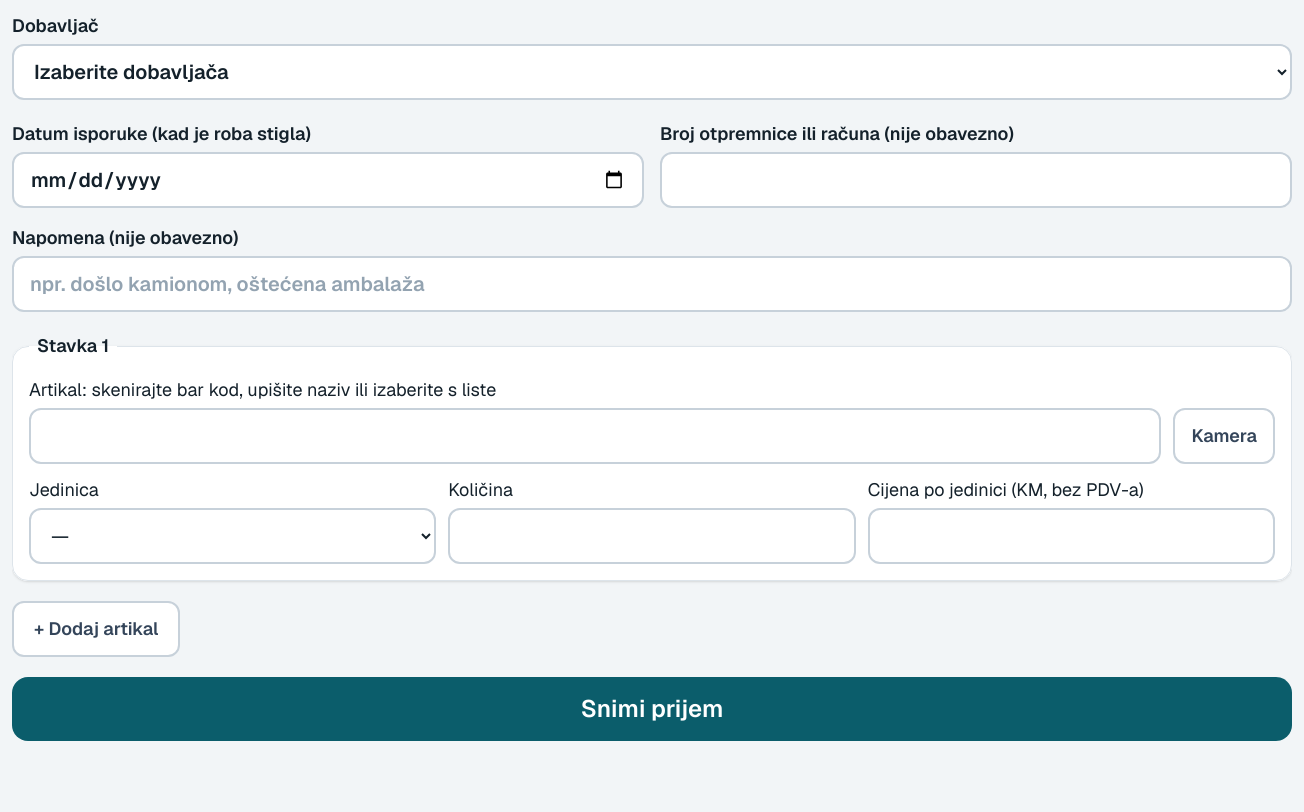
Scenario: prijem: unos artikla skenerom › bar kod pakovanja bira i pakovanje
The image size is (1304, 812).
Click the field labelled "Artikal:" at (595, 436), box x1=29 y1=408 x2=1161 y2=464
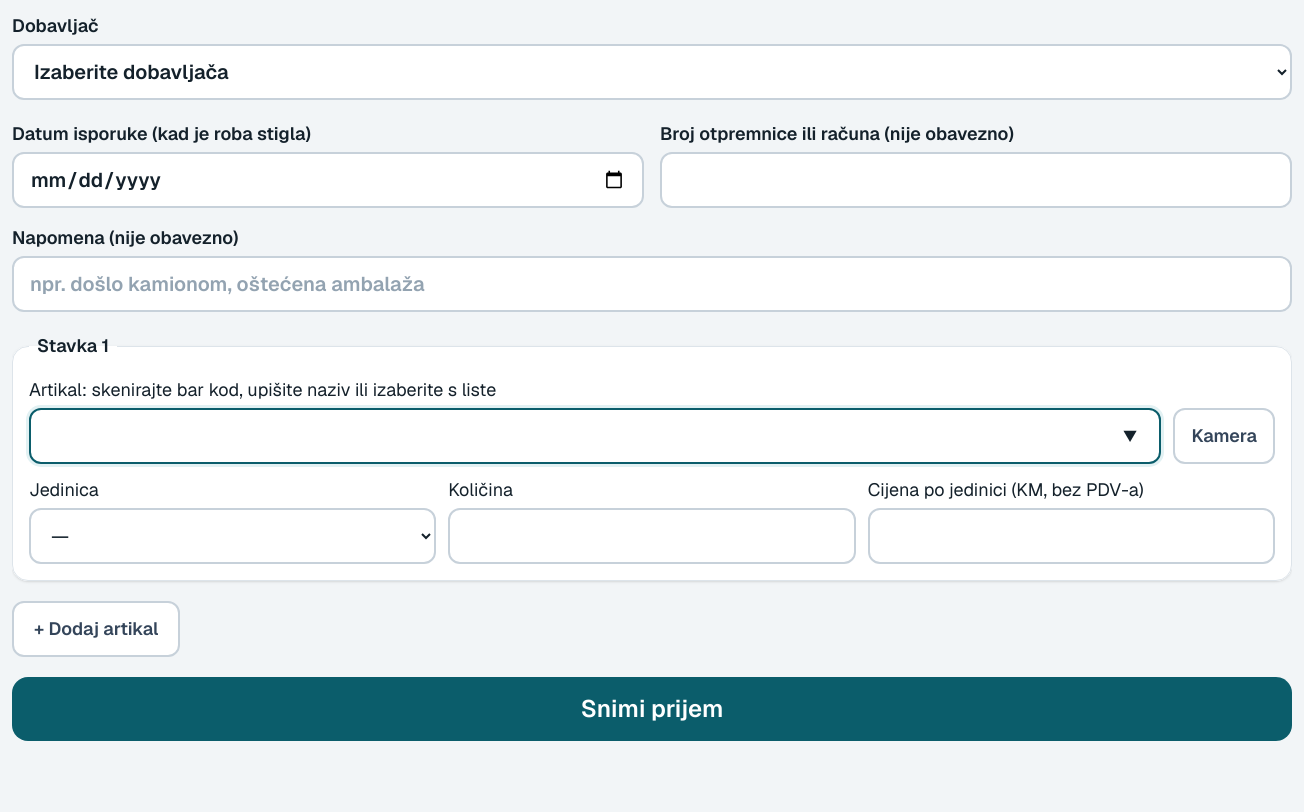
Type keys "3850099{Enter}"
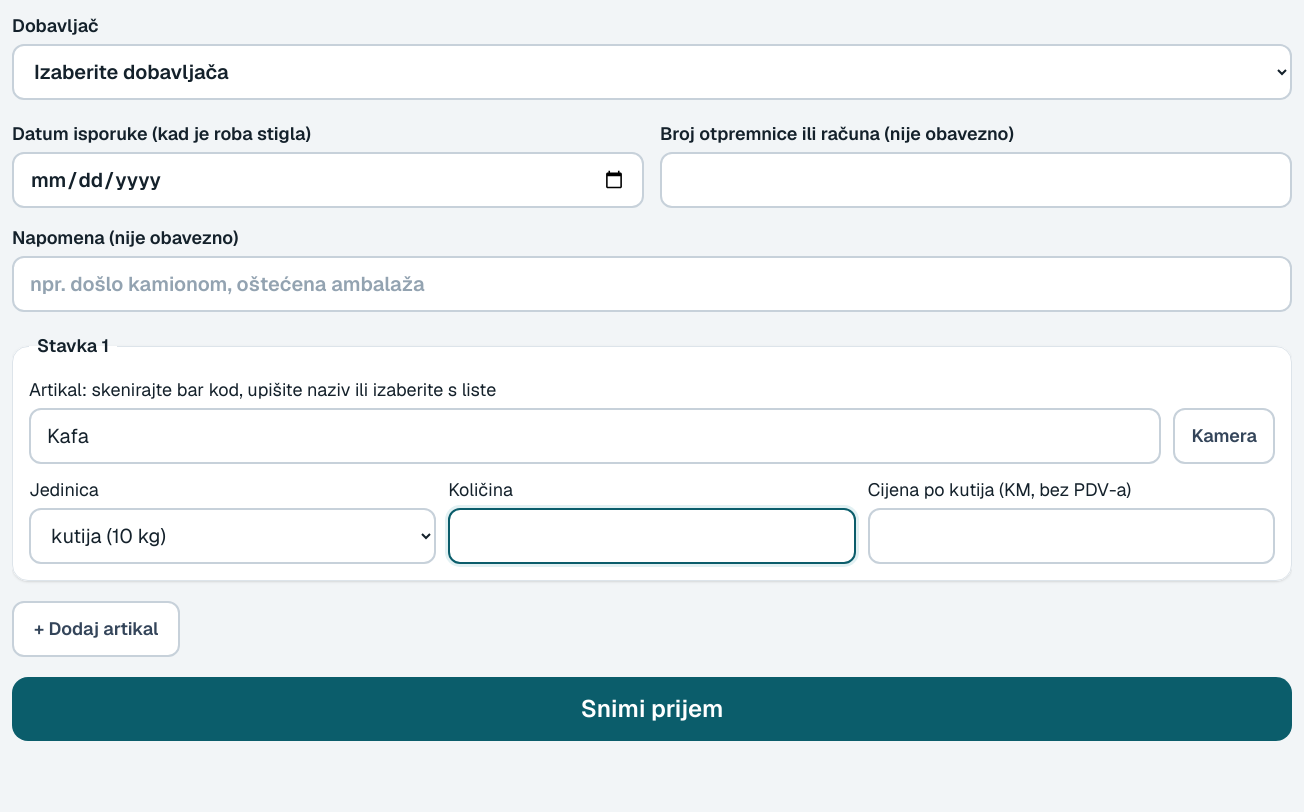
Result: the field labelled "Artikal:" holds "Kafa" at x1=29 y1=408 x2=1161 y2=464
Result: the dropdown labelled "Jedinica" shows "kutija (10 kg)" at x1=29 y1=508 x2=436 y2=564
